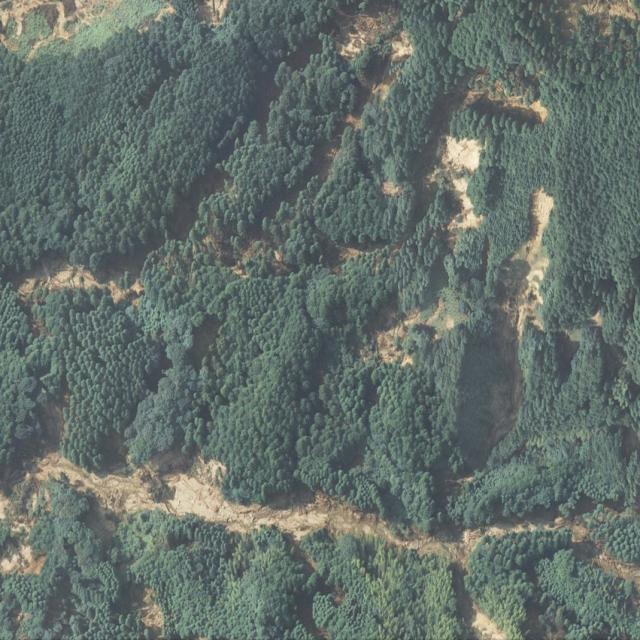landslide: (0, 453, 590, 574), (435, 294, 521, 469), (511, 187, 554, 338), (16, 261, 142, 306), (442, 135, 483, 228), (39, 394, 68, 436)
